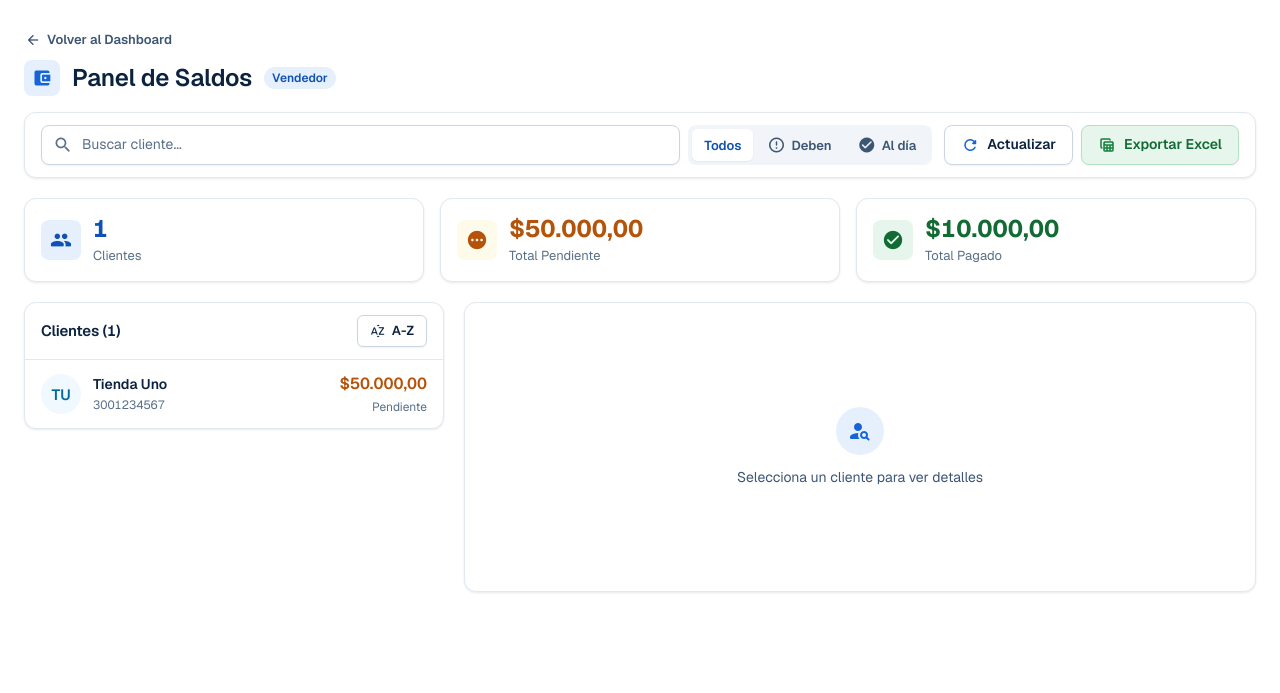
la vendedora no ve el ojito ni Pagar
Click the text "Tienda Uno".
click(130, 385)  # box [93, 374, 167, 395]
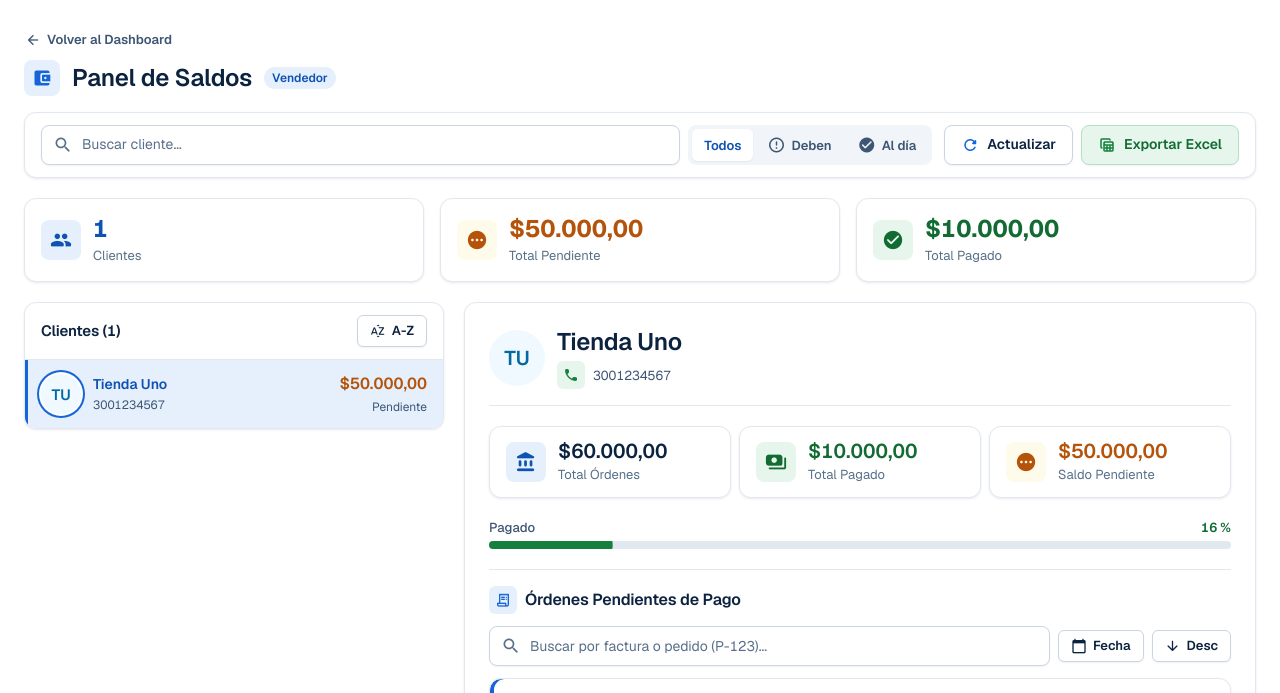
Result: the heading "Órdenes Pendientes de Pago" is shown at [489, 586, 741, 614]
